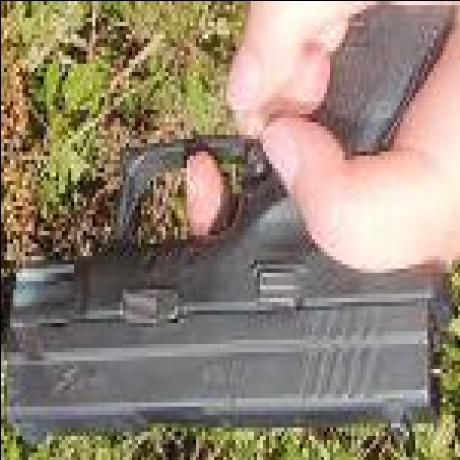1: (185, 0, 460, 283)
weapon: (2, 0, 454, 447)
